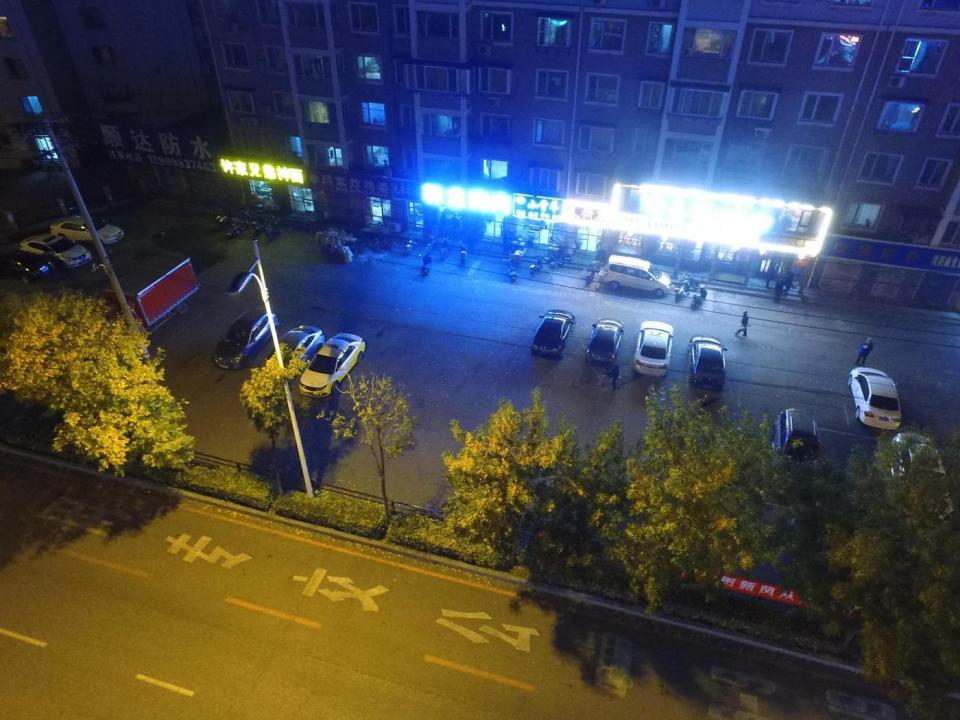car: (888, 433, 954, 527), (211, 307, 281, 369), (771, 408, 825, 488), (300, 332, 366, 397), (848, 367, 900, 430), (263, 327, 324, 380), (50, 215, 126, 248), (21, 234, 92, 268), (530, 308, 575, 358), (634, 321, 674, 377), (689, 335, 726, 390), (1, 248, 56, 284), (586, 318, 624, 364)
truck: (102, 256, 201, 336)
van: (602, 252, 674, 301)
